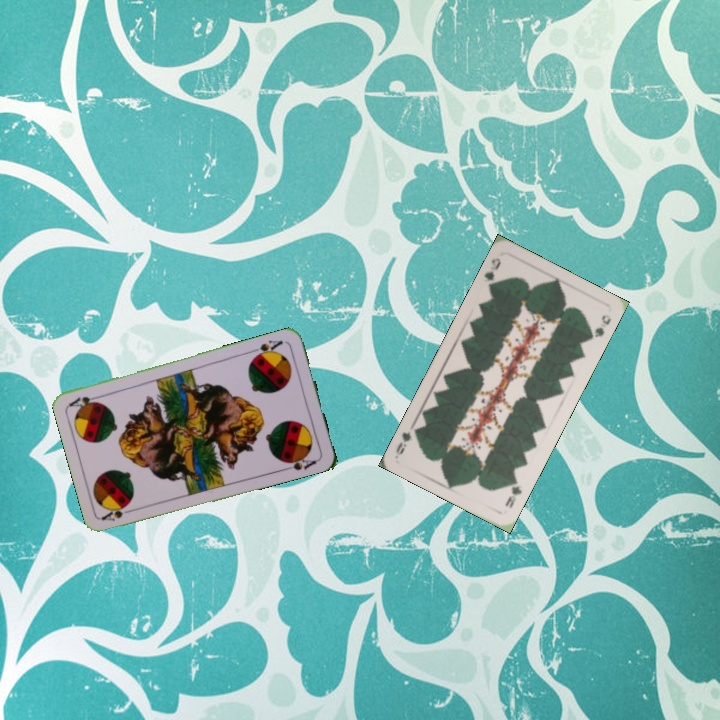G9: (480, 253, 503, 293), (501, 473, 525, 511)
SA: (248, 336, 285, 361), (98, 501, 138, 524)
